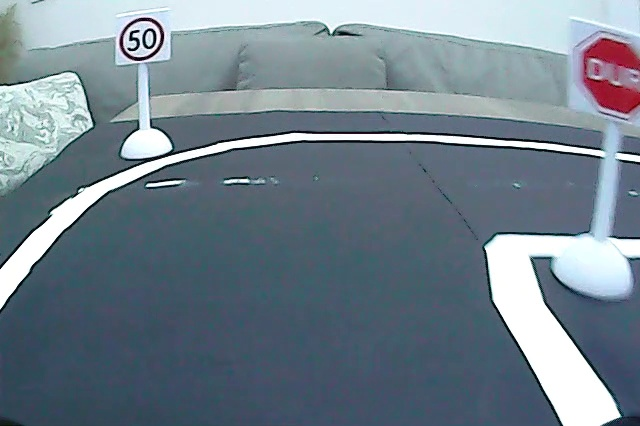speed limit 50: (116, 14, 166, 64)
stop sign: (574, 29, 640, 121)
